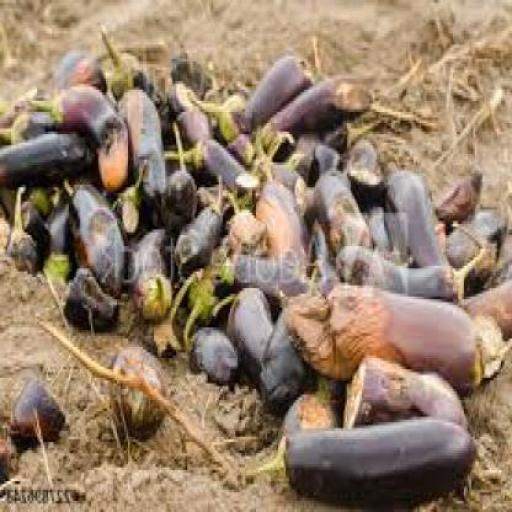biodegradable: (280, 280, 488, 380), (245, 418, 479, 504), (340, 216, 497, 296), (36, 78, 132, 190), (345, 349, 473, 426), (2, 122, 104, 218), (2, 45, 115, 129), (260, 75, 376, 151), (263, 283, 330, 411), (62, 176, 128, 297), (386, 160, 451, 266), (167, 132, 256, 204), (312, 166, 369, 272), (186, 233, 241, 341), (110, 341, 172, 434), (230, 132, 312, 202), (97, 18, 163, 104), (221, 246, 316, 303), (120, 84, 168, 193), (228, 280, 276, 388), (176, 168, 226, 271), (127, 218, 176, 316), (258, 176, 313, 262), (150, 264, 204, 350), (249, 50, 315, 120), (186, 252, 235, 341), (9, 178, 54, 274), (164, 115, 198, 230), (447, 208, 508, 272), (65, 263, 122, 330), (171, 78, 215, 162), (44, 171, 78, 279), (190, 84, 252, 142), (15, 372, 66, 439), (462, 274, 512, 338), (280, 386, 345, 434), (190, 322, 241, 381), (470, 308, 510, 380), (322, 109, 388, 151), (434, 165, 482, 221), (346, 137, 386, 199), (115, 159, 147, 236), (236, 132, 280, 184), (3, 109, 59, 146), (317, 112, 349, 171), (229, 208, 269, 250), (173, 53, 215, 92), (291, 129, 323, 179), (369, 198, 395, 255), (28, 179, 56, 216), (228, 126, 256, 157), (2, 440, 15, 486)
